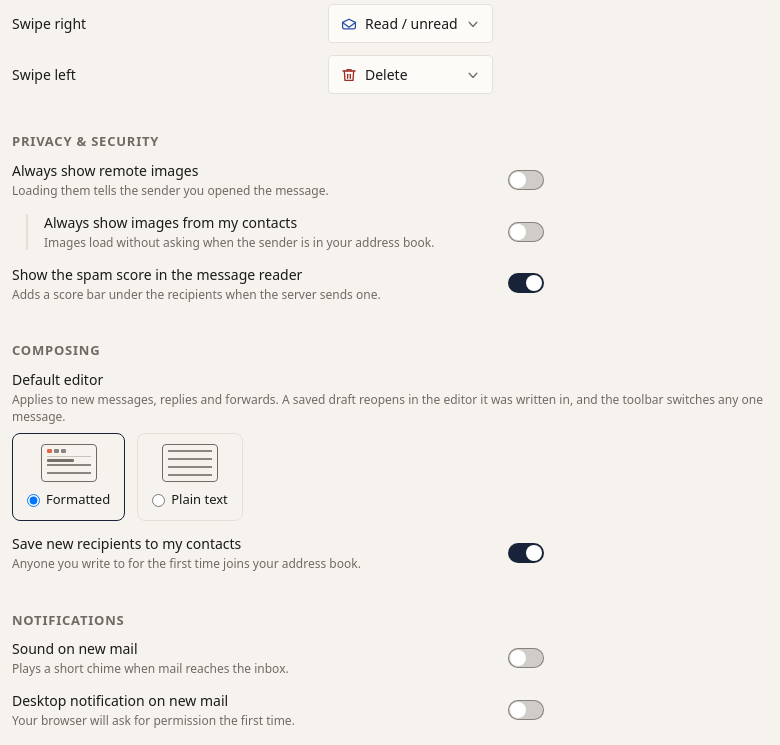
Scenario: MailGeneralPage notifications › leaves the setting off and explains when the browser refuses
(page scrolled)
Click the checkbox labelled "Desktop notification on new mail": (120, 700) [12,691,228,710]
(page scrolled)
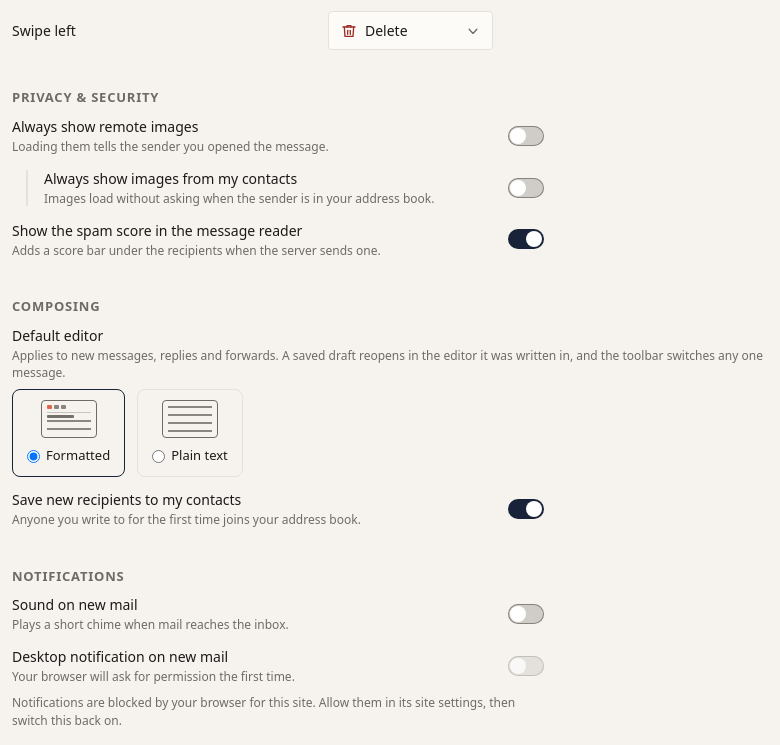
Expected: the checkbox labelled "Desktop notification on new mail" is not checked, [12,647,228,666]
Expected: the text "blocked" is shown, [12,694,515,729]
